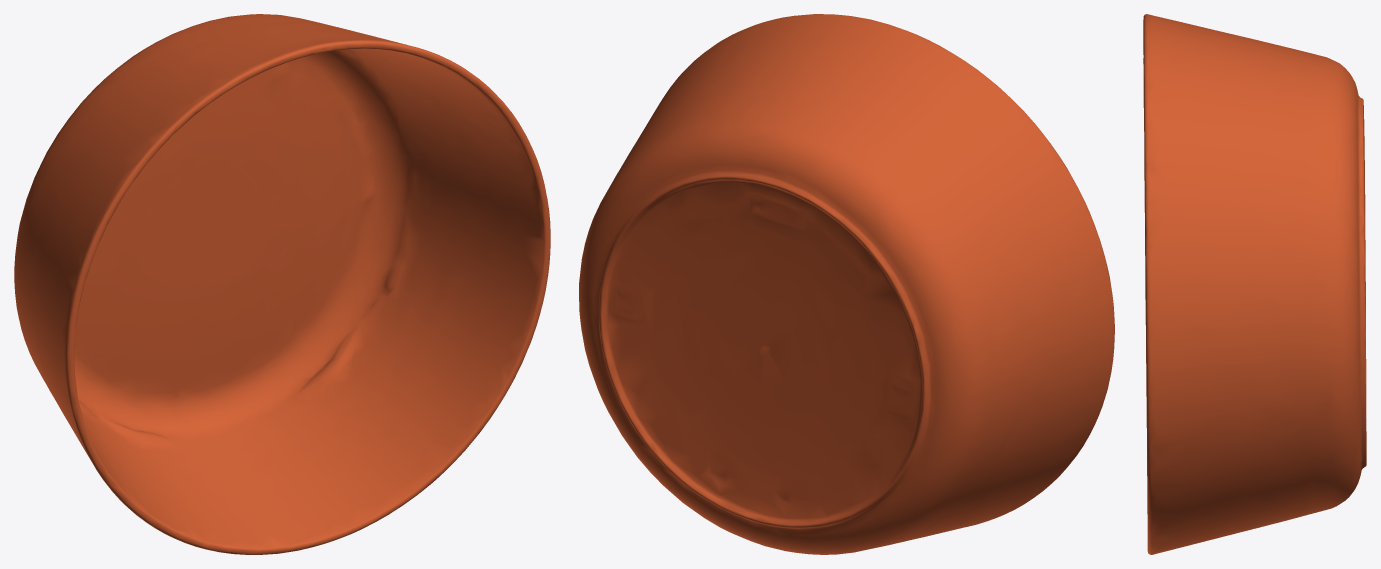
3 views of the same model, side by side, from view 1: azimuth 30°, elevation 25°; view 2: azimuth 150°, elevation 25°; view 3: azimuth 270°, elevation 25° (orthographic). The views are drawn at different scales.
Bounding box in the file's own units: 0.1201 × 0.1191 × 0.0492.
